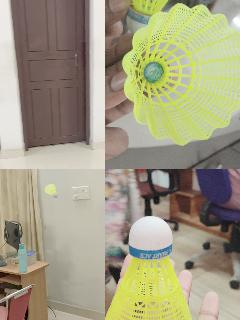shuttlecock: (123, 4, 239, 144), (105, 215, 194, 319), (114, 0, 209, 29), (44, 183, 57, 197)
